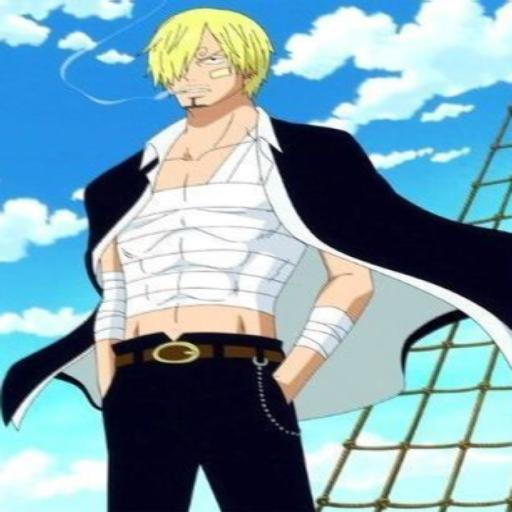sanji: (2, 0, 512, 512)
